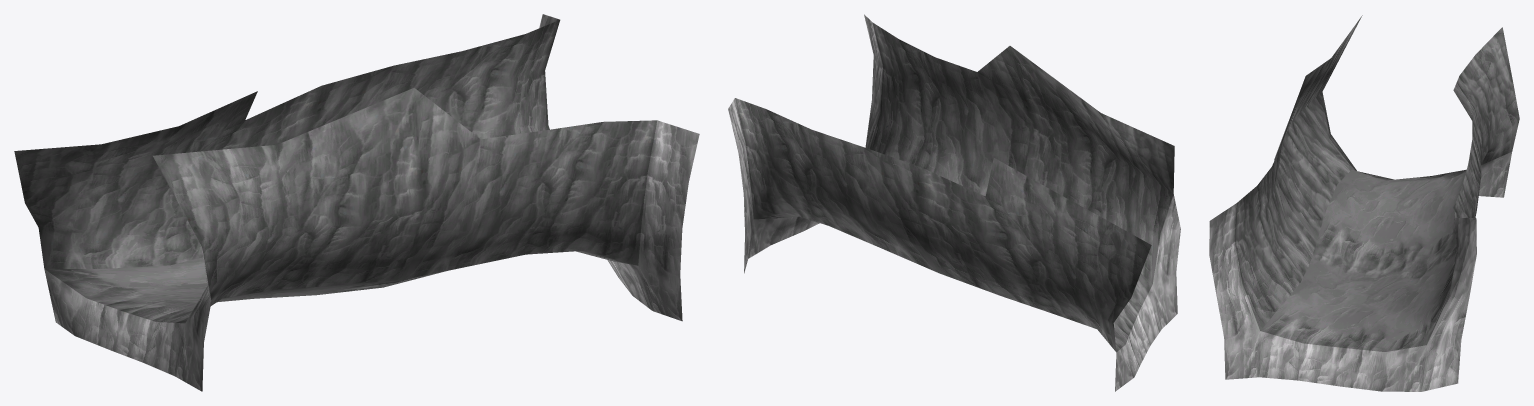
Rendered from SWORDLIGHT20_PS-AREA03_18.fbx.
The picture shows the model from 3 angles, left to right: view 1: azimuth 30°, elevation 25°; view 2: azimuth 150°, elevation 25°; view 3: azimuth 270°, elevation 25°; orthographic projection. The views are drawn at different scales.
Visible parts, largest first — view 1: SWORDLIGHT20_PS-AREA03_18; view 2: SWORDLIGHT20_PS-AREA03_18; view 3: SWORDLIGHT20_PS-AREA03_18.
Boxes of the visible parts, x1,y1,x2,y2 form: SWORDLIGHT20_PS-AREA03_18: (14,14,699,391); SWORDLIGHT20_PS-AREA03_18: (728,14,1180,391); SWORDLIGHT20_PS-AREA03_18: (1209,15,1519,391).
Bounding box in the file's own units: 247963 × 118982 × 151604.
Materials: 4 (4 with a texture image).
